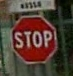stop: (11, 15, 57, 62)
